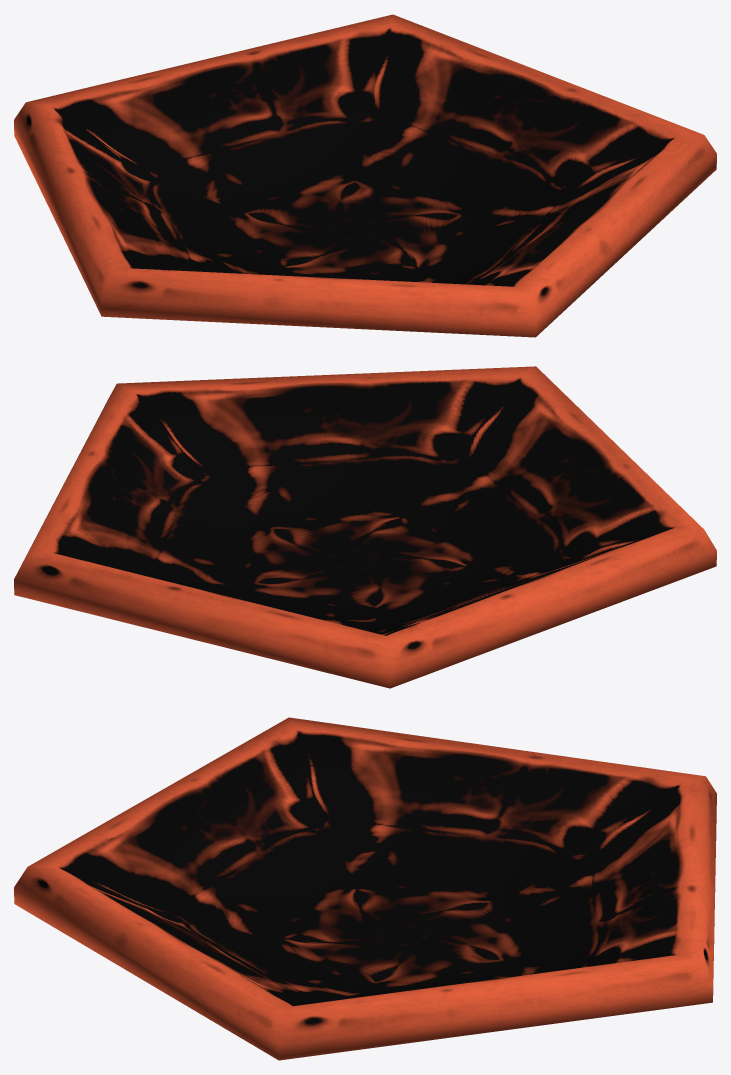
Rendered from plate.fbx.
3 views of the same model, one above another, from view 1: azimuth 30°, elevation 25°; view 2: azimuth 150°, elevation 25°; view 3: azimuth 270°, elevation 25° (orthographic). The views are drawn at different scales.
Visible parts, largest first — view 1: summonSlot; view 2: summonSlot; view 3: summonSlot.
Part boxes in pixels (left/top/right/bottom): summonSlot: left=14, top=14, right=716, bottom=337; summonSlot: left=14, top=366, right=716, bottom=688; summonSlot: left=14, top=717, right=716, bottom=1060.
Size of the model in its own units: 200 by 27.89 by 191.
